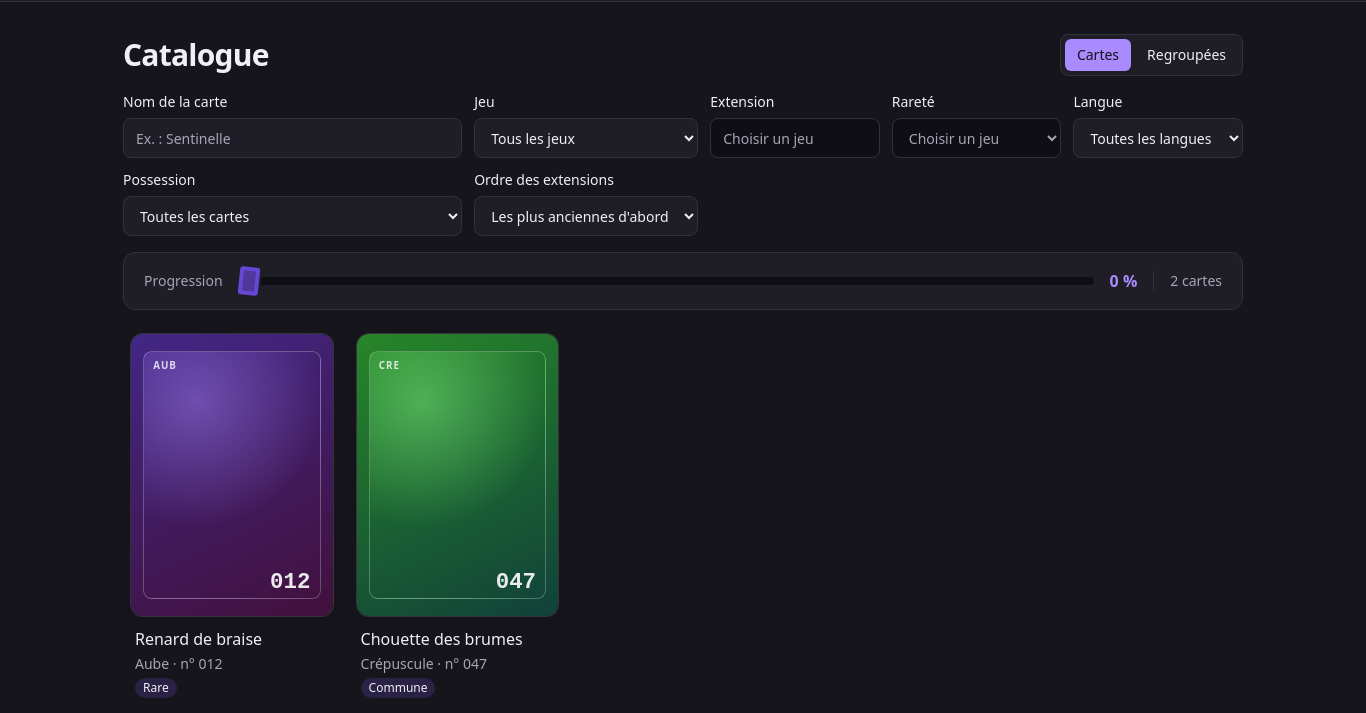
Test case: completion rate of a catalogue search › follows what is added from a card page
Click the heading "Renard de braise" at (199, 639), box [135,628,262,650]
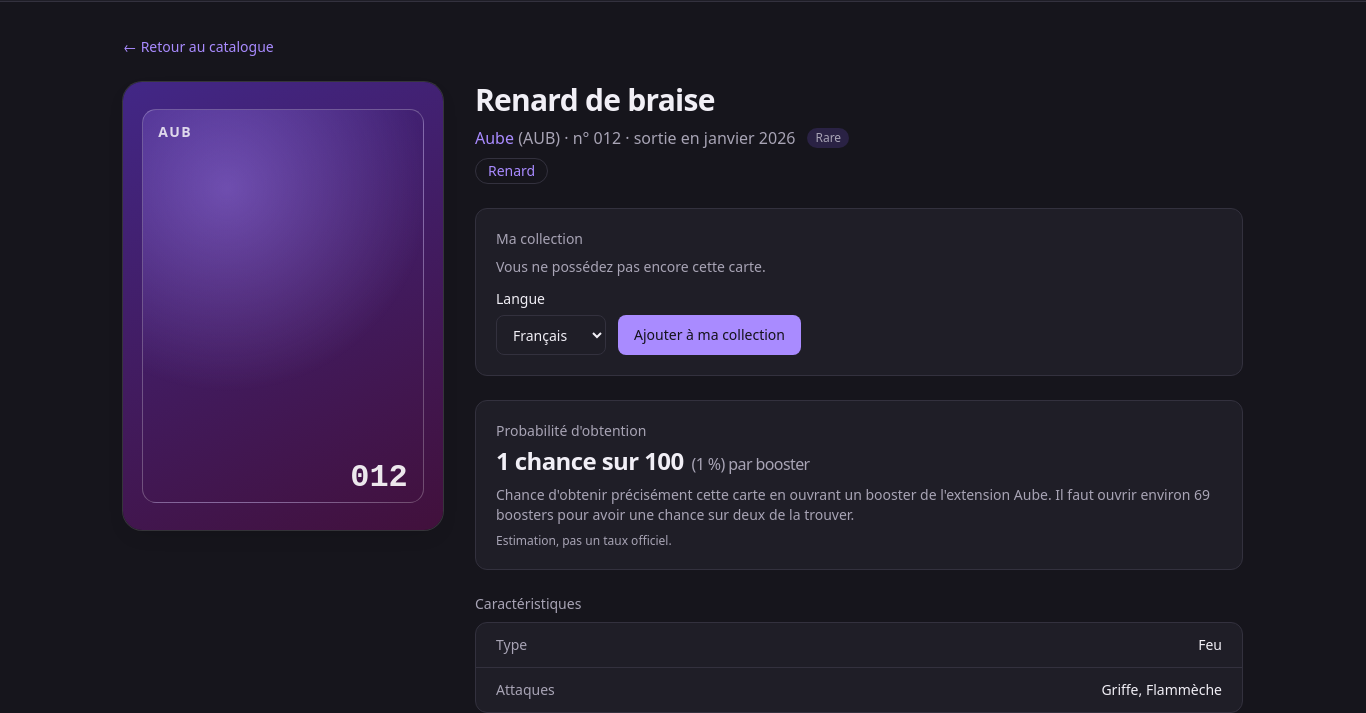
Click the button "Ajouter à ma collection" at (710, 335), box [618,315,801,355]
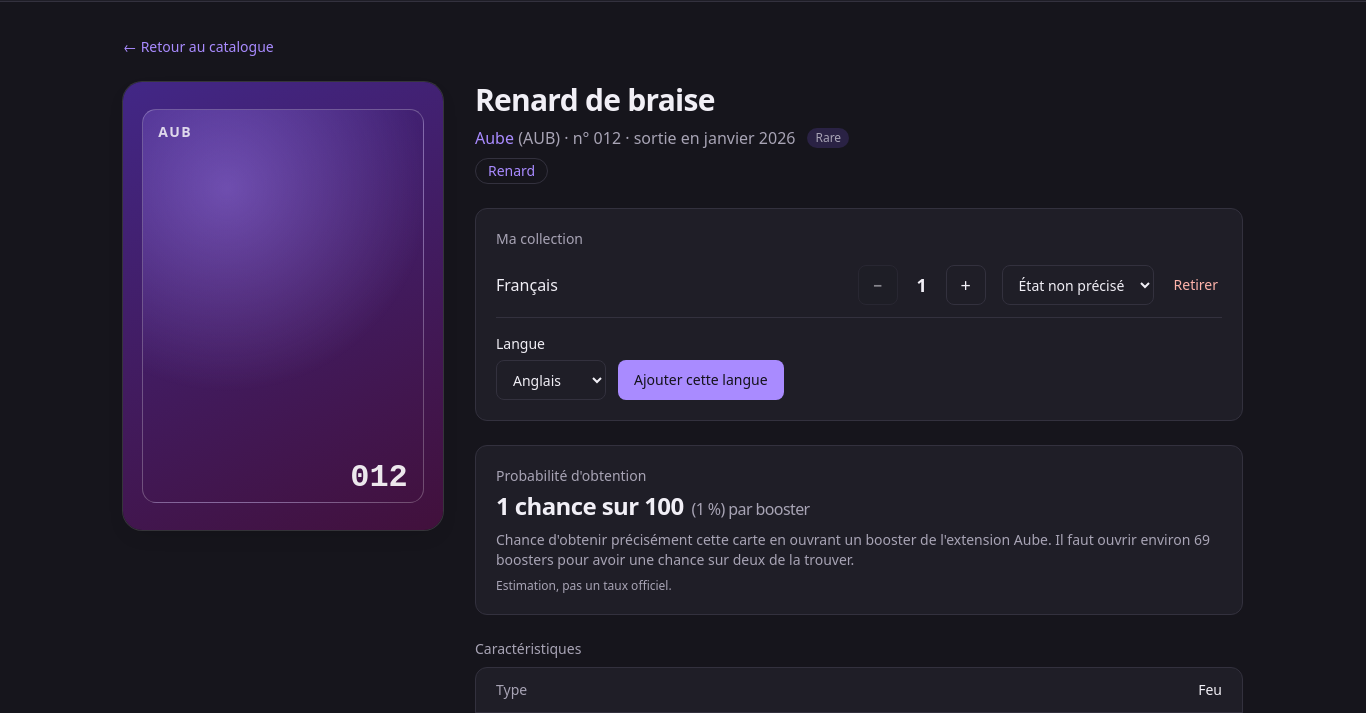
Now the element named "Quantité (Français)" is shown, box [858,265,986,305]
Click the link "← Retour au catalogue" at (198, 47), box [123,37,274,57]
(page scrolled)
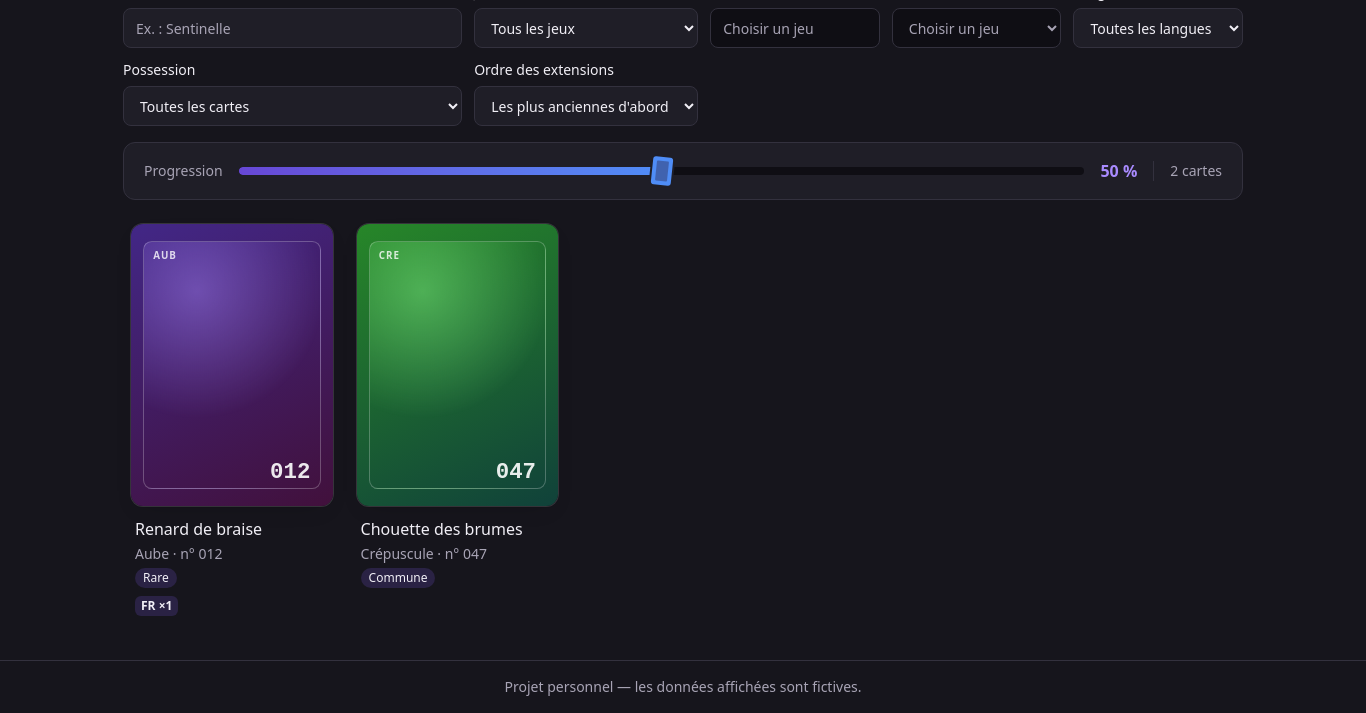
Now the text "FR ×1" is shown, box [141,597,172,614]
